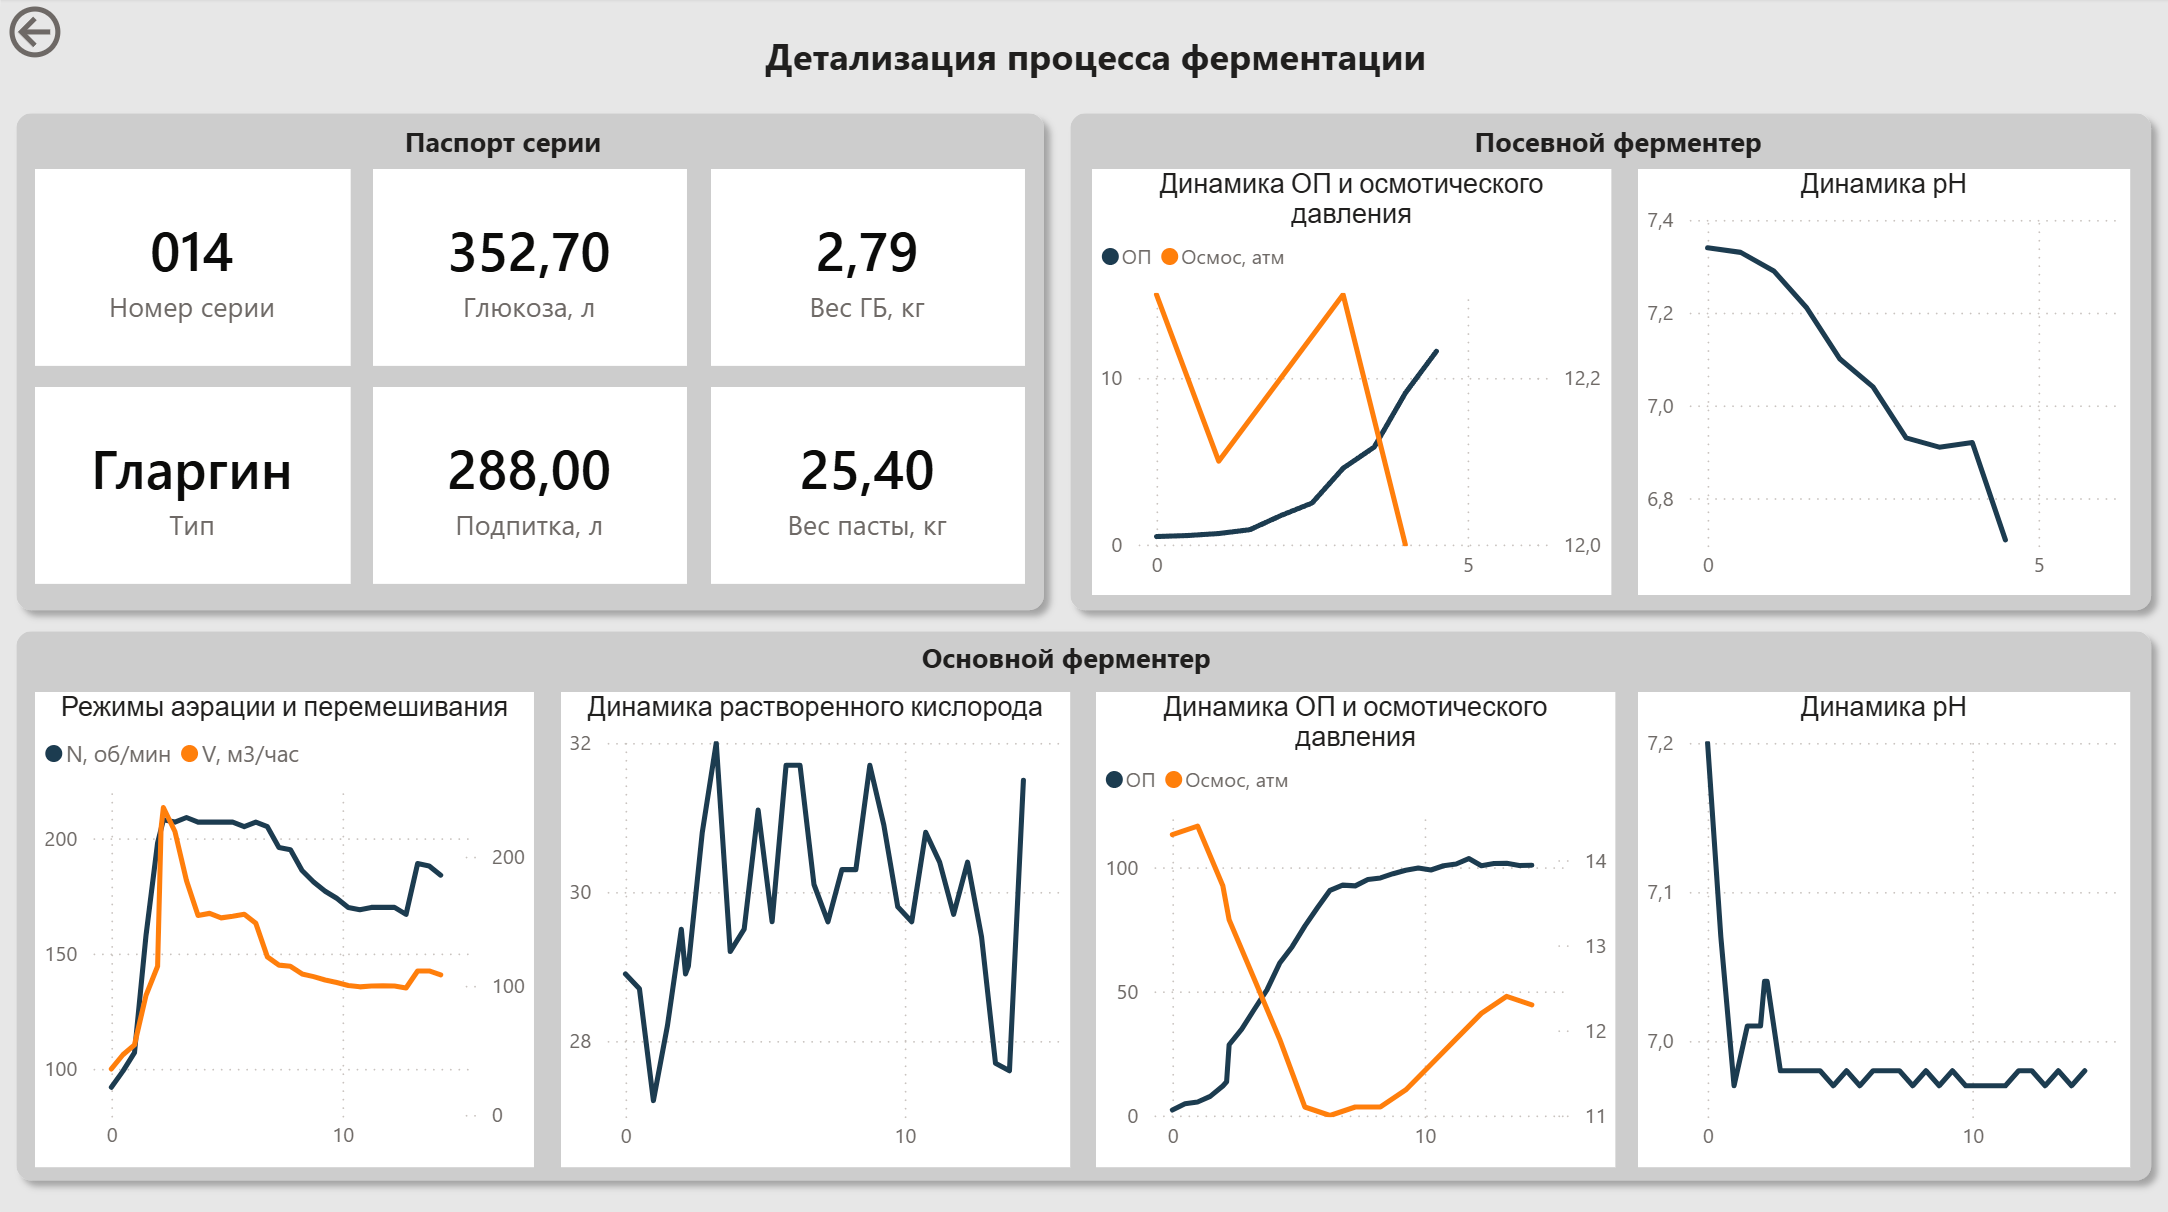

The dashboard page shown, as its layout file describes it:
{"tool":"powerbi","page":{"name":"Детализация серии","canvas":[1280,720],"ordinal":1},"visuals":[{"type":"shape","box":[0,59,623.5,310.9],"z":0},{"type":"shape","box":[0,364.3,1276,341.6],"z":1000},{"type":"actionButton","box":[0,0,100,40],"z":2000},{"type":"lineChart","title":"Динамика рН","fields":{"Category":["fermentation_main.время роста, час"],"Y":["Avg(fermentation_main.рН)"]},"box":[964.5,409.1,290,279.5],"z":3000},{"type":"lineChart","title":"Динамика ОП и осмотического давления","fields":{"Category":["fermentation_main.время роста, час"],"Y":["Sum(fermentation_main.ОП)"],"Y2":["Sum(fermentation_main.Осмос, атм)"]},"box":[645.1,409.1,305.9,279.5],"z":4000},{"type":"lineChart","title":"Динамика растворенного кислорода","fields":{"Category":["fermentation_main.время роста, час"],"Y":["Sum(fermentation_main.рО, %)"]},"box":[329.9,409.1,299.8,279.5],"z":5000},{"type":"lineChart","title":"Режимы аэрации и перемешивания","fields":{"Category":["fermentation_main.время роста, час"],"Y":["Sum(fermentation_main.N, об\\мин)"],"Y2":["Sum(fermentation_main.V, м3\\час)"]},"box":[20.3,409.1,294.3,279.5],"z":6000},{"type":"shape","box":[621.1,59,654.9,310.9],"z":7000},{"type":"lineChart","title":"Динамика рН","fields":{"Category":["fermentation_seed.время роста, час"],"Y":["Sum(fermentation_seed.рН)"]},"box":[964.5,100.8,290,251.3],"z":8000},{"type":"lineChart","title":"Динамика ОП и осмотического давления","fields":{"Category":["fermentation_seed.время роста, час"],"Y2":["Sum(fermentation_seed.Осмос, атм)"],"Y":["Sum(fermentation_seed.ОП)"]},"box":[642.6,100.8,305.9,251.3],"z":9000},{"type":"cardVisual","fields":{"Data":["Sum(batch_summary_final.вес пасты, кг)"]},"box":[418.4,229.1,184.9,116.1],"z":10000},{"type":"cardVisual","fields":{"Data":["Sum(batch_summary_final.вес ГБ, кг)"]},"box":[418.4,100.8,184.9,116.1],"z":11000},{"type":"cardVisual","fields":{"Data":["Sum(batch_summary_final.Всего_глюкозы_л)"]},"box":[219.3,100.8,184.9,116.1],"z":12000},{"type":"cardVisual","fields":{"Data":["Sum(batch_summary_final.Всего_подпитки_л)"]},"box":[219.3,229.1,184.9,116.1],"z":13000},{"type":"cardVisual","fields":{"Data":["Min(batch_summary_final.Тип)"]},"box":[20.3,229.1,185.5,116],"z":14000},{"type":"textbox","box":[485.9,372.9,287.5,31.9],"z":15000},{"type":"textbox","box":[811.5,68.8,287.5,31.9],"z":16000},{"type":"textbox","box":[304.1,14.1,681.9,38.7],"z":17000},{"type":"cardVisual","fields":{"Data":["Min(batch_summary_final.Номер серии)"]},"box":[20.3,100.8,185.5,116.1],"z":18000},{"type":"textbox","box":[151.7,68.8,287.5,31.9],"z":19000}]}

Visuals, with their boxes in screenshot pixels (x1, y1, x2, y2), scaled from the page's 1280x720 canvas onto the 2168x1212 screenshot:
shape: Rect(0, 99, 1056, 623)
shape: Rect(0, 613, 2161, 1188)
actionButton: Rect(0, 0, 169, 67)
"Динамика рН" lineChart: Rect(1634, 689, 2125, 1159)
"Динамика ОП и осмотического давления" lineChart: Rect(1093, 689, 1611, 1159)
"Динамика растворенного кислорода" lineChart: Rect(559, 689, 1067, 1159)
"Режимы аэрации и перемешивания" lineChart: Rect(34, 689, 533, 1159)
shape: Rect(1052, 99, 2161, 623)
"Динамика рН" lineChart: Rect(1634, 170, 2125, 593)
"Динамика ОП и осмотического давления" lineChart: Rect(1088, 170, 1607, 593)
cardVisual - Sum(batch_summary_final.вес пасты, кг): Rect(709, 386, 1022, 581)
cardVisual - Sum(batch_summary_final.вес ГБ, кг): Rect(709, 170, 1022, 365)
cardVisual - Sum(batch_summary_final.Всего_глюкозы_л): Rect(371, 170, 685, 365)
cardVisual - Sum(batch_summary_final.Всего_подпитки_л): Rect(371, 386, 685, 581)
cardVisual - Min(batch_summary_final.Тип): Rect(34, 386, 349, 581)
textbox: Rect(823, 628, 1310, 681)
textbox: Rect(1374, 116, 1861, 170)
textbox: Rect(515, 24, 1670, 89)
cardVisual - Min(batch_summary_final.Номер серии): Rect(34, 170, 349, 365)
textbox: Rect(257, 116, 744, 170)
